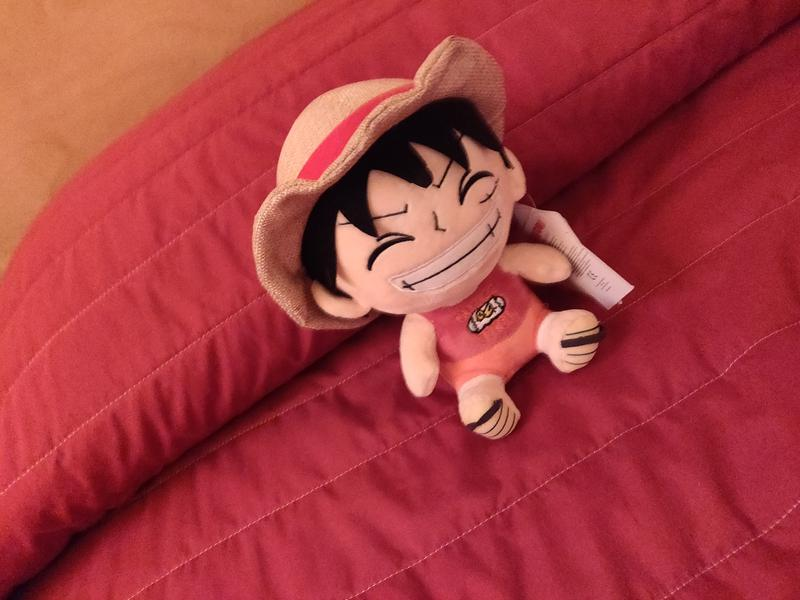rufy: (254, 26, 644, 457)
